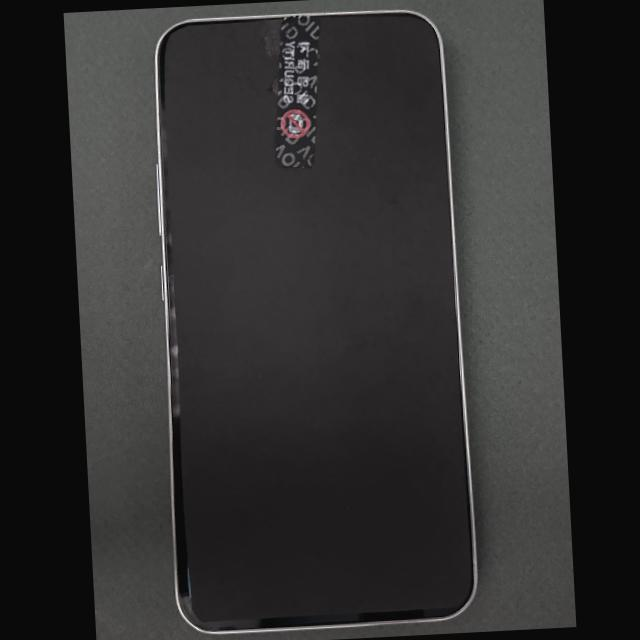phone: (154, 8, 479, 634)
sticker: (276, 15, 321, 169)
